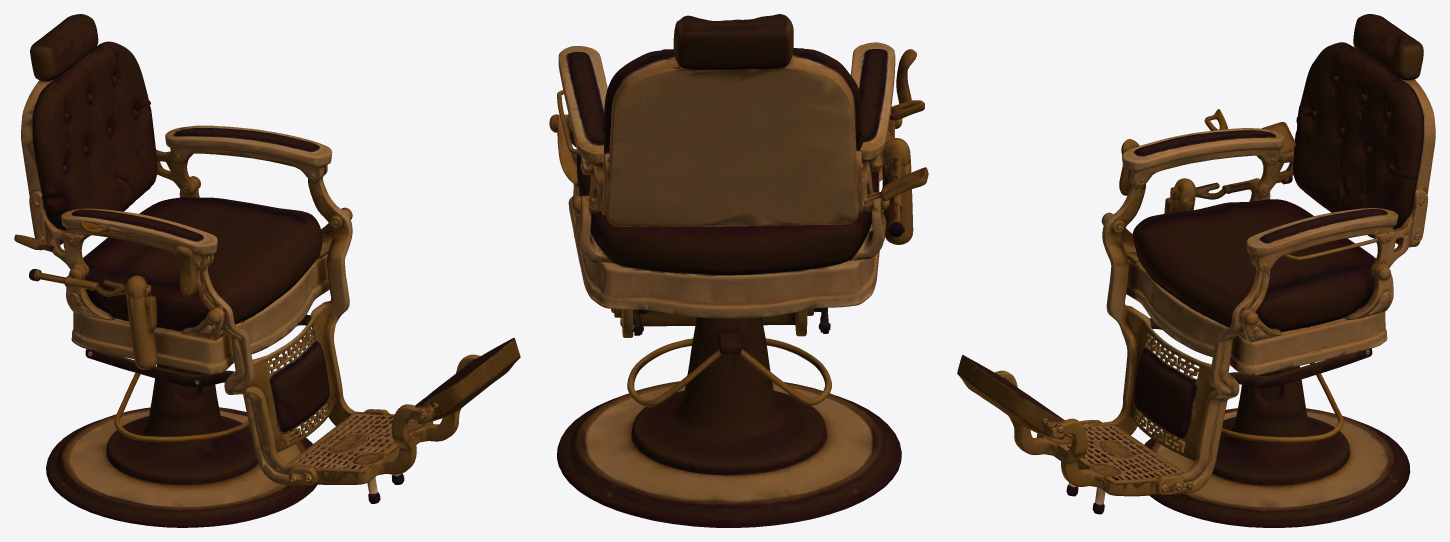
The model's file is kreslo.glb.
The picture shows the model from 3 angles, left to right: view 1: azimuth 30°, elevation 25°; view 2: azimuth 150°, elevation 25°; view 3: azimuth 270°, elevation 25°; orthographic projection. The views are drawn at different scales.
Parts seen in each view (by area): view 1: tripo_node_b3f9533c-2db1-48c3-82ba-8489292b4572; view 2: tripo_node_b3f9533c-2db1-48c3-82ba-8489292b4572; view 3: tripo_node_b3f9533c-2db1-48c3-82ba-8489292b4572.
Boxes of the visible parts, x1,y1,x2,y2 form: tripo_node_b3f9533c-2db1-48c3-82ba-8489292b4572: [14, 14, 520, 527]; tripo_node_b3f9533c-2db1-48c3-82ba-8489292b4572: [549, 14, 928, 527]; tripo_node_b3f9533c-2db1-48c3-82ba-8489292b4572: [957, 14, 1435, 527].
Size of the model in its own units: 0.8382 by 0.8858 by 0.9339.
1 material, 1 textured.
